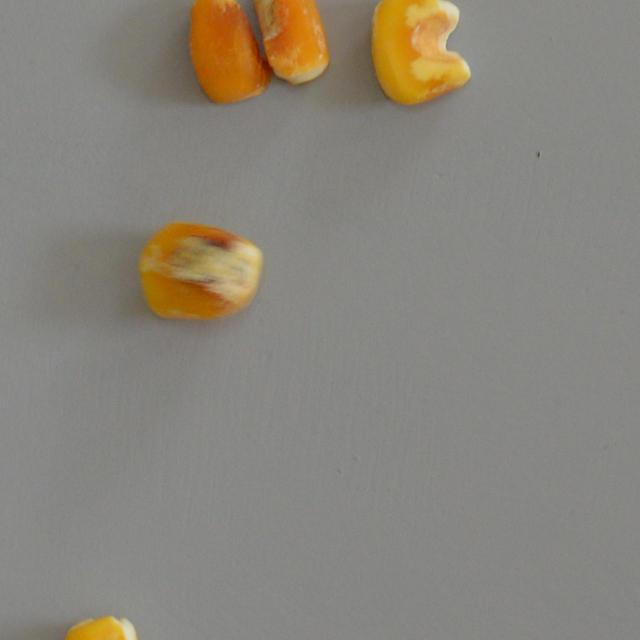dañado: (135, 221, 262, 320), (186, 0, 270, 104), (250, 0, 328, 86)
pelicula: (370, 0, 471, 104), (54, 612, 146, 640)
